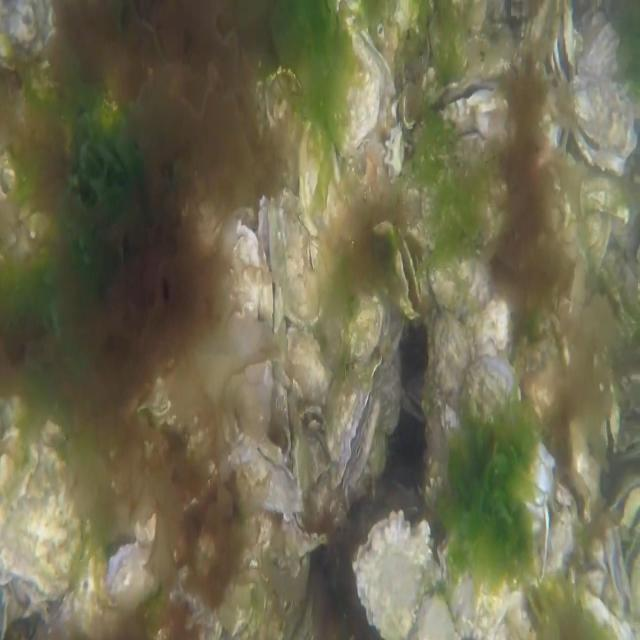Oyster-Closed: (436, 522, 535, 640), (327, 353, 383, 493), (229, 442, 305, 522), (284, 504, 329, 557)
Oyster-Indeterminate: (450, 350, 556, 507), (0, 418, 83, 602), (352, 508, 432, 640), (324, 1, 380, 151), (429, 305, 473, 468), (298, 114, 351, 238), (277, 183, 321, 326), (344, 285, 404, 368), (424, 248, 495, 312), (284, 317, 331, 413), (230, 219, 262, 317)
Oyster-Open: (566, 18, 640, 176), (426, 76, 508, 162), (256, 193, 280, 333), (606, 526, 634, 620), (393, 236, 423, 321), (550, 0, 577, 82), (606, 474, 640, 533), (598, 384, 622, 456)
